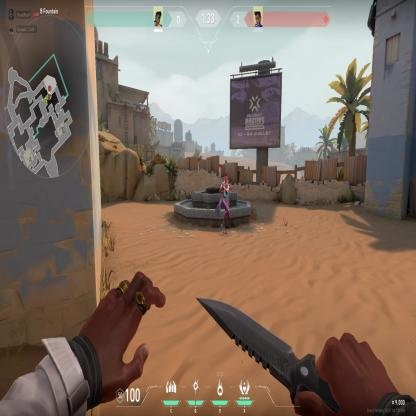enemy: (216, 170, 231, 236)
